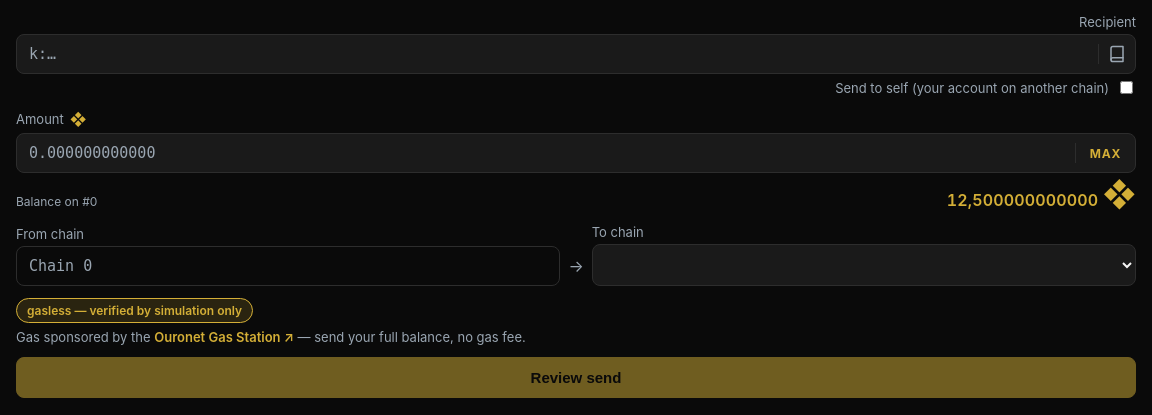
Scenario: SendForm › shows the source-chain balance under the amount and Max fills it
The width and height of the screenshot is (1152, 415).
Check: the element with test id "send-source-balance" shows "Balance on #0", box x1=16 y1=177 x2=1136 y2=212
Click the button with test id "send-max": coordinates (1105, 153) x1=1076 y1=134 x2=1135 y2=172
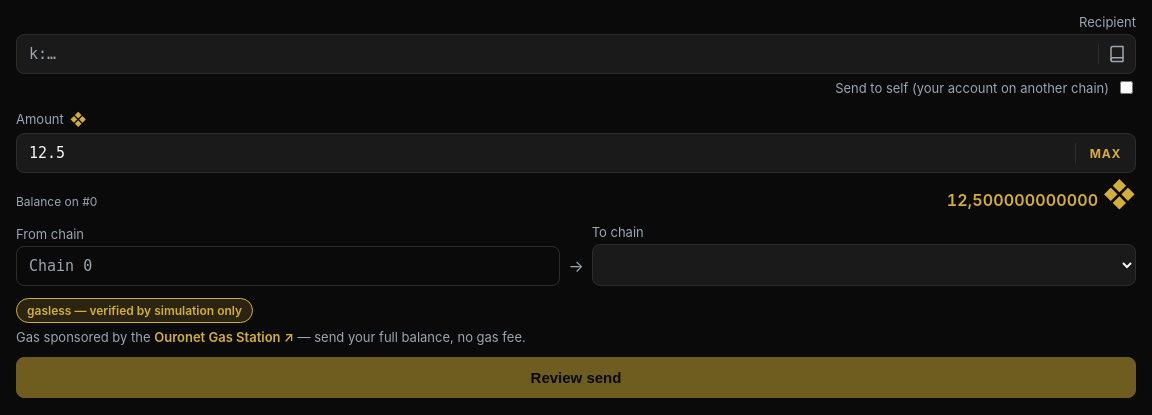
Check: the field with test id "send-amount" holds "12.5", box x1=17 y1=134 x2=1075 y2=172
